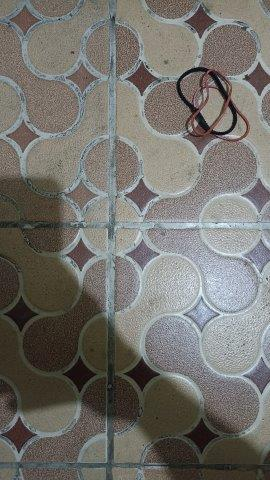karet: (177, 67, 251, 142)
